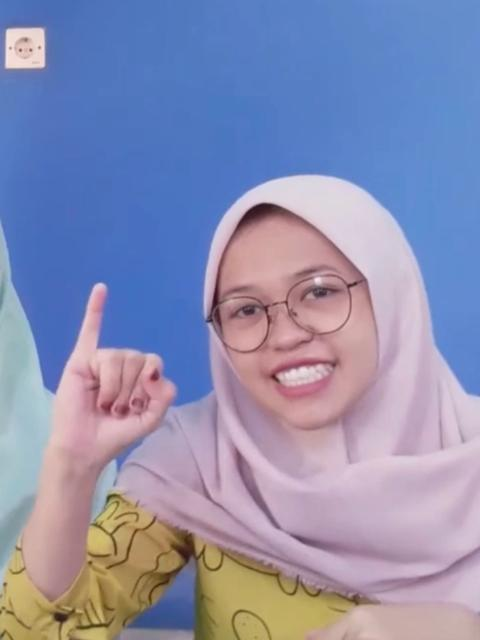I: (52, 278, 176, 464)
